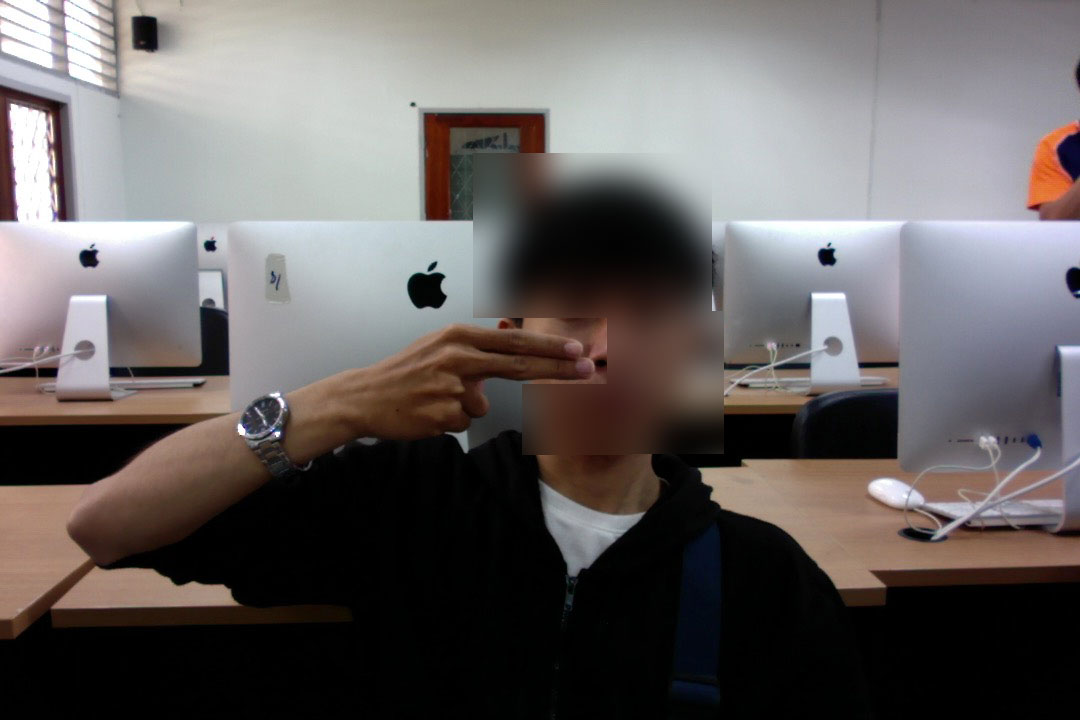hor: (366, 314, 597, 448)
